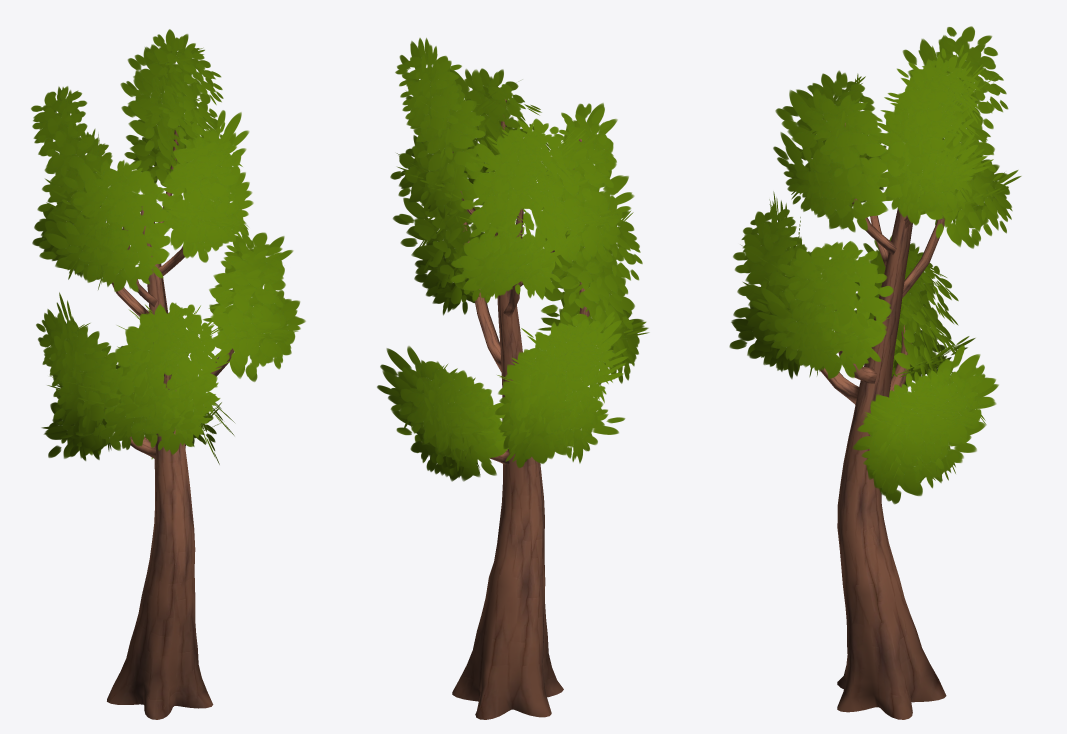
File: tree-oak-a.glb
The picture shows the model from 3 angles, left to right: view 1: azimuth 30°, elevation 25°; view 2: azimuth 150°, elevation 25°; view 3: azimuth 270°, elevation 25°; orthographic projection. The views are drawn at different scales.
Visible parts, largest first — view 1: CommonTree_3; view 2: CommonTree_3; view 3: CommonTree_3.
Part boxes in pixels (box(x1,y1,x2,y2)): CommonTree_3: box(31, 29, 305, 719); CommonTree_3: box(377, 38, 649, 719); CommonTree_3: box(729, 26, 1021, 719).
Size of the model in its own units: 4.06 by 9.43 by 4.24.
2 materials, 2 textured.
